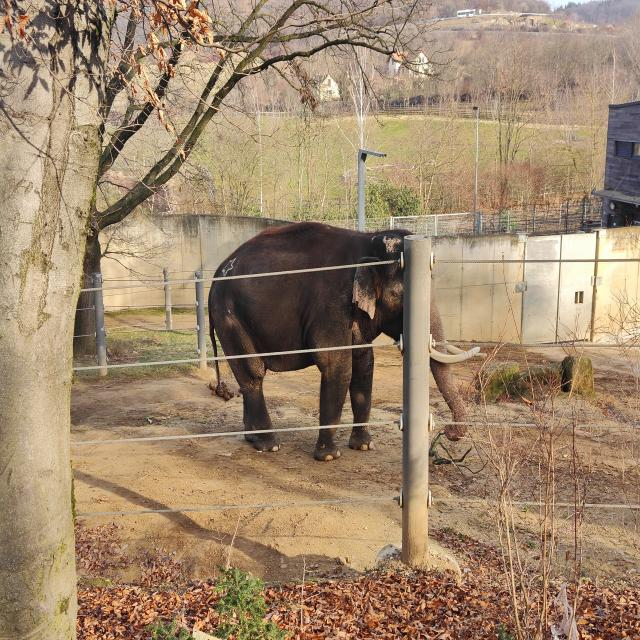elephant: (208, 222, 488, 461)
